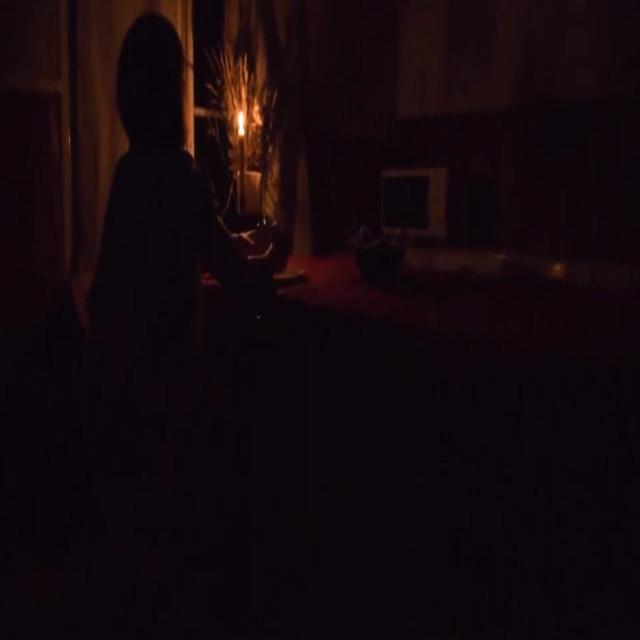smoke: (237, 108, 246, 132)
